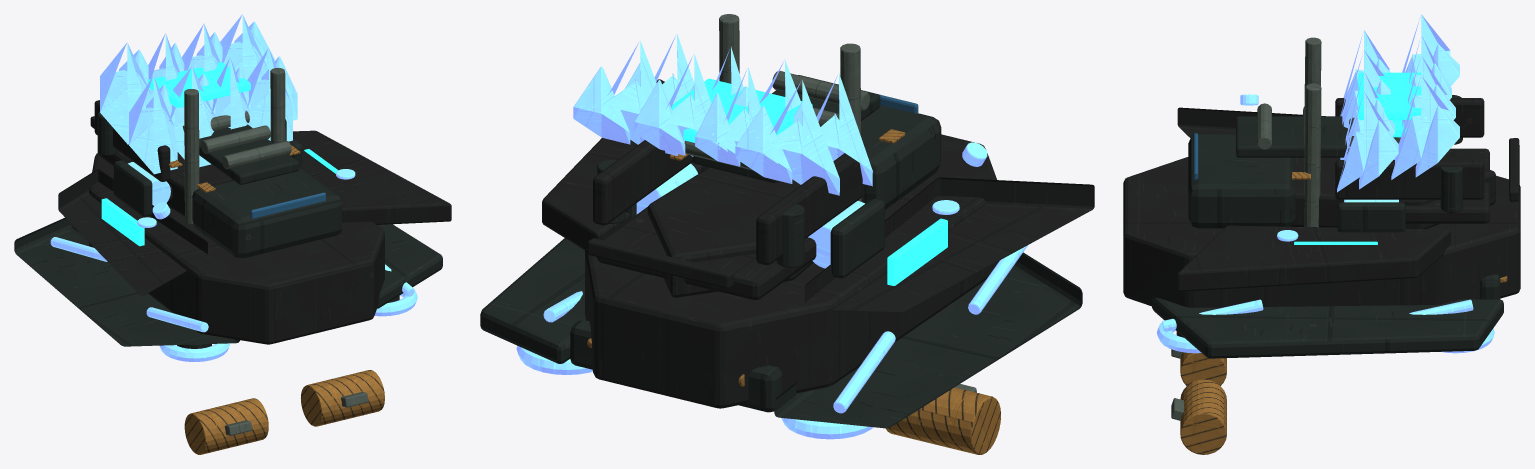
The model's file is lumen_harvester.glb.
3 views of the same model, side by side, from view 1: azimuth 30°, elevation 25°; view 2: azimuth 150°, elevation 25°; view 3: azimuth 270°, elevation 25° (orthographic). The views are drawn at different scales.
Visible parts, largest first — view 1: Faction detail · Vehicle / dark.001, Faction detail · Vehicle / armor.001, Faction detail · Vehicle / armor_light.001, Faction detail · Vehicle / energy.001, Powered cutter drum, Powered cutter drum.001, Faction detail · Vehicle / steel.001, Faction detail · Vehicle / energy.002, Faction detail · Vehicle / energy.006, Faction detail · Vehicle / steel.003, Faction detail · Vehicle / energy.005, Faction detail · Vehicle / energy.009 (+8 smaller); view 2: Faction detail · Vehicle / armor.001, Faction detail · Vehicle / dark.001, Faction detail · Vehicle / armor_light.001, Faction detail · Vehicle / energy.001, Faction detail · Vehicle / energy.006, Powered cutter drum, Faction detail · Vehicle / energy.009, Faction detail · Vehicle / energy.008, Faction detail · Vehicle / energy.007, Hinged mineral unloading gate, Faction detail · Vehicle / steel.001, Faction detail · Vehicle / energy.002 (+5 smaller); view 3: Faction detail · Vehicle / dark.001, Faction detail · Vehicle / armor.001, Faction detail · Vehicle / armor_light.001, Faction detail · Vehicle / energy.009, Faction detail · Vehicle / steel.001, Powered cutter drum.001, Faction detail · Vehicle / energy.005, Faction detail · Vehicle / energy.001, TeamColor, Faction detail · Vehicle / energy.006, Powered cutter drum, Faction detail · Vehicle / energy.003 (+7 smaller).
Boxes of the visible parts, bbox=[...] form: Faction detail · Vehicle / dark.001: bbox=[14, 112, 442, 348]; Faction detail · Vehicle / armor.001: bbox=[89, 100, 384, 344]; Faction detail · Vehicle / armor_light.001: bbox=[58, 130, 451, 296]; Faction detail · Vehicle / energy.001: bbox=[50, 162, 417, 361]; Powered cutter drum: bbox=[184, 398, 268, 454]; Powered cutter drum.001: bbox=[300, 370, 384, 426]; Faction detail · Vehicle / steel.001: bbox=[184, 67, 285, 224]; Faction detail · Vehicle / energy.002: bbox=[129, 76, 177, 174]; Faction detail · Vehicle / energy.006: bbox=[100, 43, 151, 144]; Faction detail · Vehicle / steel.003: bbox=[182, 110, 291, 169]; Faction detail · Vehicle / energy.005: bbox=[247, 48, 297, 141]; Faction detail · Vehicle / energy.009: bbox=[220, 14, 274, 81]; Faction detail · Vehicle / armor.001: bbox=[585, 134, 999, 408]; Faction detail · Vehicle / dark.001: bbox=[480, 75, 1082, 428]; Faction detail · Vehicle / armor_light.001: bbox=[542, 79, 1094, 312]; Faction detail · Vehicle / energy.001: bbox=[516, 163, 1027, 439]; Faction detail · Vehicle / energy.006: bbox=[735, 80, 839, 195]; Powered cutter drum: bbox=[885, 387, 1000, 454]; Faction detail · Vehicle / energy.009: bbox=[573, 41, 677, 155]; Faction detail · Vehicle / energy.008: bbox=[634, 54, 727, 156]; Faction detail · Vehicle / energy.007: bbox=[695, 67, 777, 166]; Hinged mineral unloading gate: bbox=[587, 238, 734, 288]; Faction detail · Vehicle / steel.001: bbox=[719, 14, 861, 201]; Faction detail · Vehicle / energy.002: bbox=[793, 73, 872, 186]; Faction detail · Vehicle / dark.001: bbox=[1152, 95, 1503, 358]; Faction detail · Vehicle / armor.001: bbox=[1123, 98, 1520, 307]; Faction detail · Vehicle / armor_light.001: bbox=[1177, 107, 1495, 291]; Faction detail · Vehicle / energy.009: bbox=[1391, 76, 1459, 179]; Faction detail · Vehicle / steel.001: bbox=[1304, 37, 1321, 227]; Powered cutter drum.001: bbox=[1180, 379, 1226, 454]; Faction detail · Vehicle / energy.005: bbox=[1337, 91, 1398, 192]; Faction detail · Vehicle / energy.001: bbox=[1157, 199, 1494, 353]; TeamColor: bbox=[1358, 72, 1421, 119]; Faction detail · Vehicle / energy.006: bbox=[1402, 14, 1459, 86]; Powered cutter drum: bbox=[1180, 352, 1226, 385]; Faction detail · Vehicle / energy.003: bbox=[1342, 50, 1390, 128].
Size of the model in its own units: 3.99 by 3.93 by 3.9.
10 materials, 9 textured.
